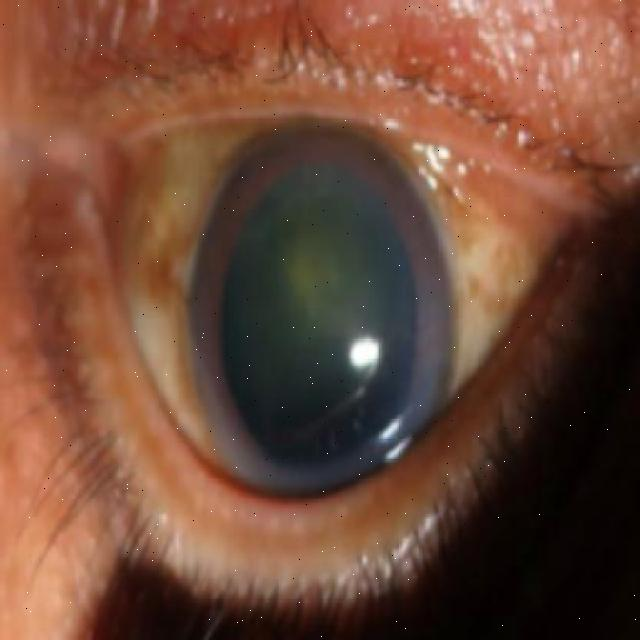Cataract: (193, 124, 457, 511)
